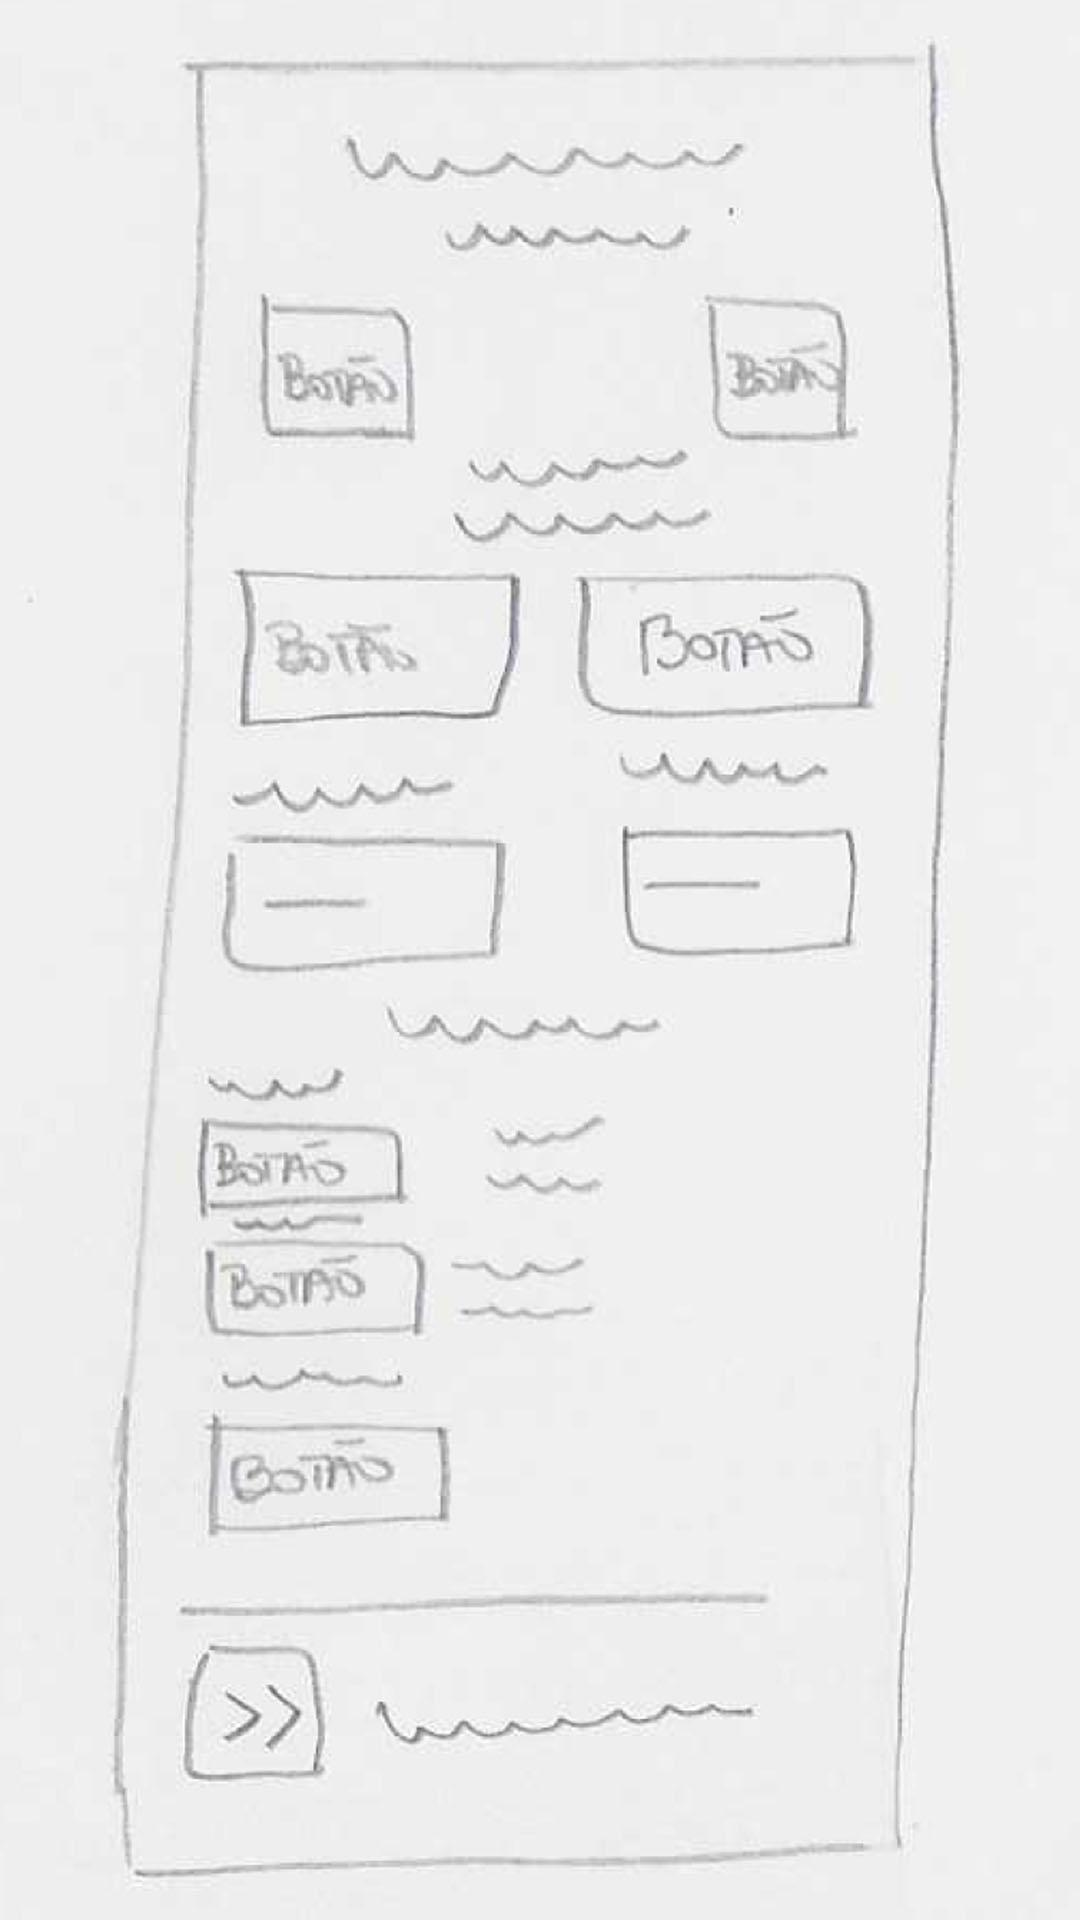Button: (236, 570, 518, 725), (582, 578, 873, 716), (211, 1423, 450, 1532), (204, 1242, 426, 1337), (705, 295, 847, 440), (179, 1648, 326, 1783), (262, 309, 414, 436), (195, 1120, 401, 1208)
Label: (344, 137, 742, 251), (456, 446, 709, 549), (174, 1581, 771, 1623), (371, 1696, 757, 1750), (384, 1002, 662, 1046), (450, 1253, 597, 1324), (477, 1117, 605, 1196), (232, 771, 454, 816), (618, 750, 827, 793), (225, 1361, 405, 1404), (206, 1067, 343, 1104), (229, 1212, 364, 1237)
Screen: (113, 57, 956, 1882)
TextBox: (216, 836, 506, 975), (621, 827, 857, 957)
